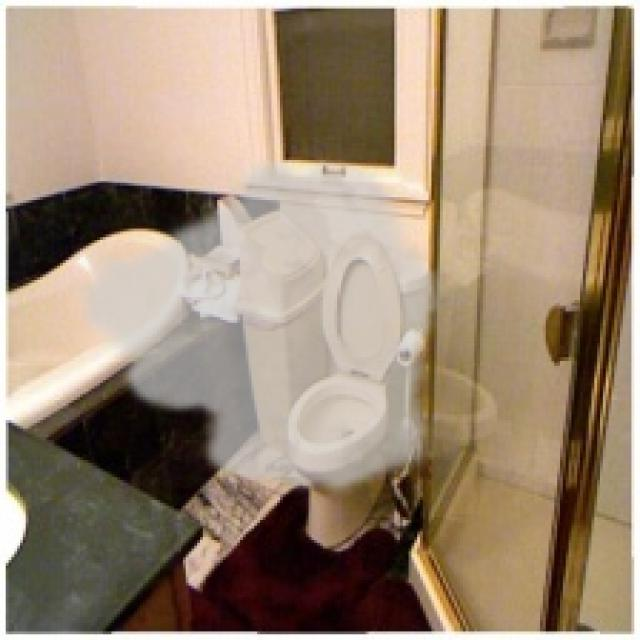smoke: (68, 149, 446, 497)
